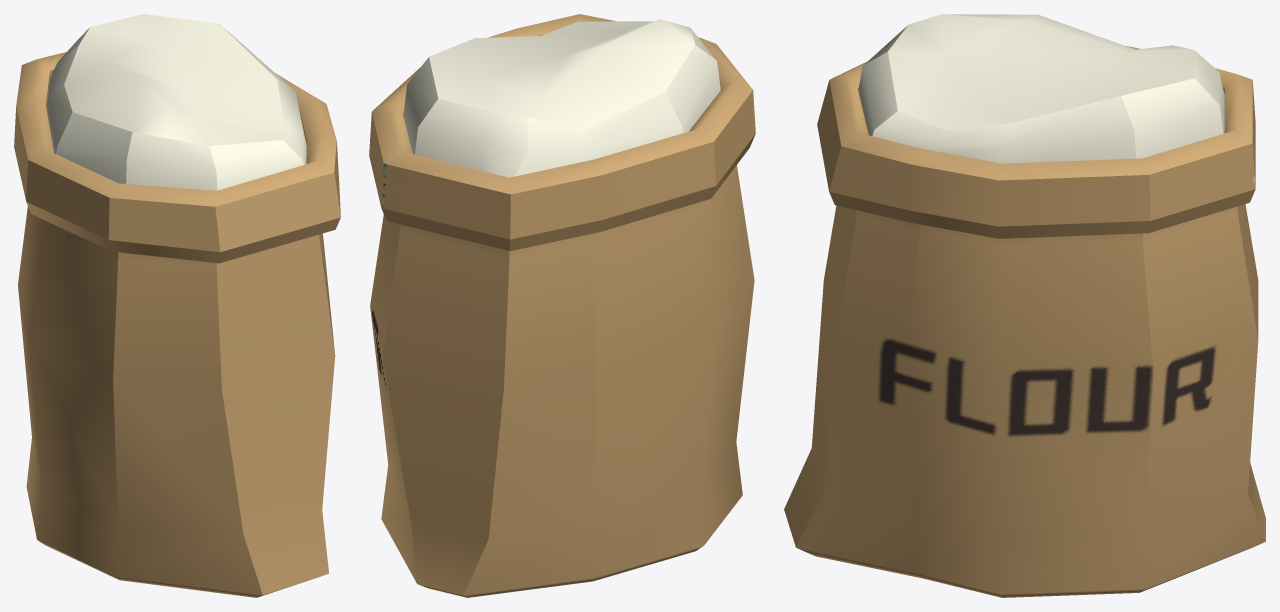
Rendered from flour.fbx.
The picture shows the model from 3 angles, left to right: view 1: azimuth 30°, elevation 25°; view 2: azimuth 150°, elevation 25°; view 3: azimuth 270°, elevation 25°; orthographic projection. The views are drawn at different scales.
Parts seen in each view (by area): view 1: flour; view 2: flour; view 3: flour.
Boxes of the visible parts, box(x1,y1,x2,y2) form: flour: box(14, 14, 340, 597); flour: box(369, 14, 755, 597); flour: box(784, 14, 1265, 597).
Size of the model in its own units: 1.89 by 2.86 by 2.53.
